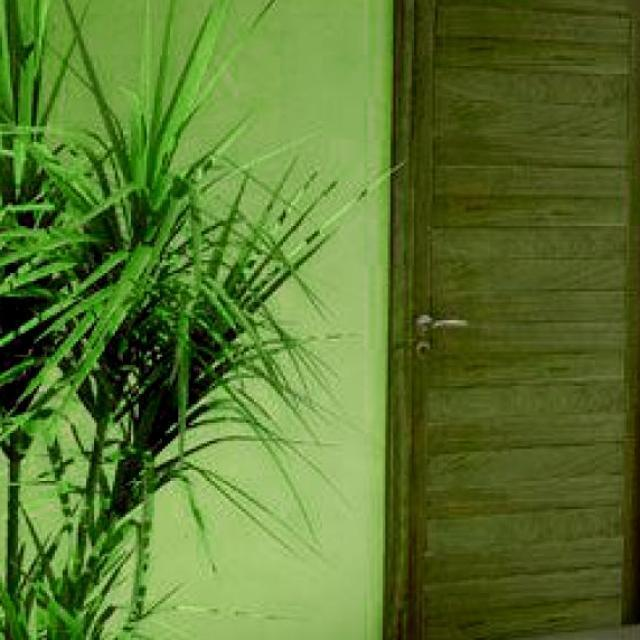door: (384, 0, 639, 639)
